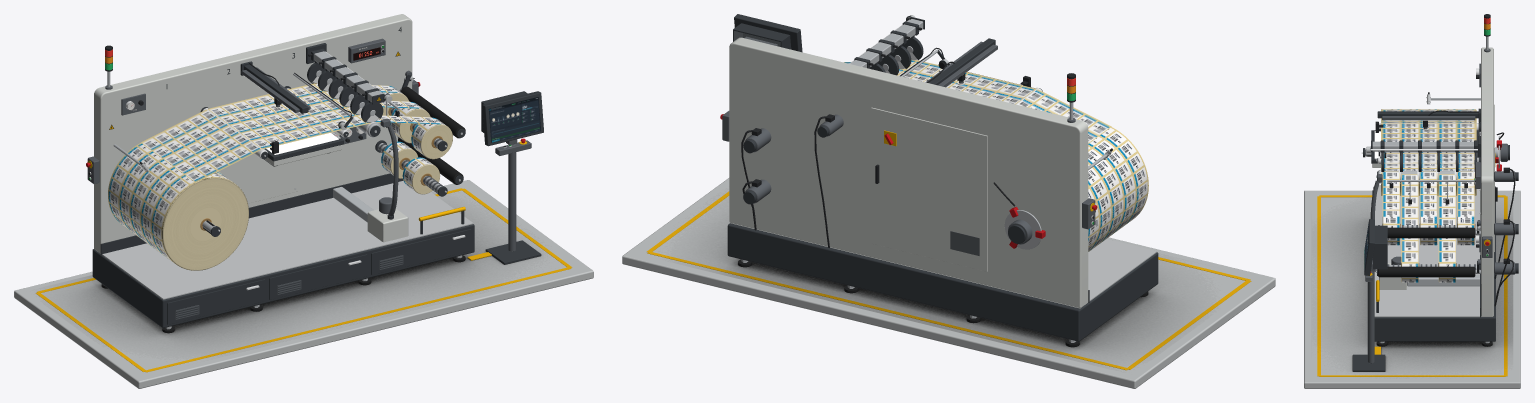
The model's file is slitter.glb.
3 views of the same model, side by side, from view 1: azimuth 30°, elevation 25°; view 2: azimuth 150°, elevation 25°; view 3: azimuth 270°, elevation 25° (orthographic). The views are drawn at different scales.
Parts seen in each view (by area): view 1: socle, mur_tole_gris_clair, bati_dessus, rotatif_1, bati_tole_anthracite, bande, mur_tole_anthracite, refente_tole_anthracite, pupitre_tole_anthracite, ecran_ihm, pupitre_graphite, table_tole_anthracite (+16 smaller); view 2: mur_tole_gris_clair, socle, bati_tole_anthracite, rotatif_1, bande, bati_dessus, pupitre_tole_anthracite, refente_tole_anthracite, refente_acier_usine, rembobinage_graphite, derouleur_acier_usine, table_tole_anthracite (+3 smaller); view 3: socle, bande, bati_dessus, mur_tole_gris_clair, bati_tole_anthracite, pupitre_tole_anthracite, rotatif_23, rotatif_22, rembobinage_graphite, refente_acier_usine, refente_tole_anthracite, pupitre_graphite (+15 smaller).
Boxes of the visible parts, x1=… form: socle: x1=14, y1=180, x2=593, y2=388; mur_tole_gris_clair: x1=94, y1=14, x2=412, y2=253; bati_dessus: x1=102, y1=180, x2=473, y2=299; rotatif_1: x1=108, y1=143, x2=248, y2=270; bati_tole_anthracite: x1=92, y1=224, x2=474, y2=327; bande: x1=141, y1=83, x2=440, y2=182; mur_tole_anthracite: x1=100, y1=27, x2=403, y2=255; refente_tole_anthracite: x1=306, y1=43, x2=384, y2=122; pupitre_tole_anthracite: x1=481, y1=91, x2=543, y2=264; ecran_ihm: x1=488, y1=97, x2=540, y2=142; pupitre_graphite: x1=495, y1=139, x2=531, y2=251; table_tole_anthracite: x1=240, y1=61, x2=343, y2=166; mur_tole_gris_clair: x1=729, y1=37, x2=1088, y2=308; socle: x1=622, y1=178, x2=1275, y2=388; bati_tole_anthracite: x1=727, y1=223, x2=1158, y2=341; rotatif_1: x1=1088, y1=127, x2=1148, y2=251; bande: x1=844, y1=60, x2=1111, y2=143; bati_dessus: x1=1088, y1=239, x2=1156, y2=301; pupitre_tole_anthracite: x1=733, y1=14, x2=802, y2=52; refente_tole_anthracite: x1=817, y1=17, x2=924, y2=137; refente_acier_usine: x1=850, y1=19, x2=923, y2=67; rembobinage_graphite: x1=722, y1=111, x2=771, y2=203; derouleur_acier_usine: x1=1004, y1=154, x2=1107, y2=249; table_tole_anthracite: x1=928, y1=38, x2=1034, y2=88; socle: x1=1304, y1=190, x2=1520, y2=388; bande: x1=1381, y1=110, x2=1476, y2=263; bati_dessus: x1=1374, y1=185, x2=1479, y2=317; mur_tole_gris_clair: x1=1480, y1=47, x2=1494, y2=316; bati_tole_anthracite: x1=1372, y1=186, x2=1495, y2=341; pupitre_tole_anthracite: x1=1352, y1=219, x2=1387, y2=371; rotatif_23: x1=1377, y1=266, x2=1475, y2=277; rotatif_22: x1=1387, y1=227, x2=1475, y2=238; rembobinage_graphite: x1=1378, y1=220, x2=1515, y2=274; refente_acier_usine: x1=1372, y1=141, x2=1473, y2=151; refente_tole_anthracite: x1=1371, y1=135, x2=1518, y2=180; pupitre_graphite: x1=1365, y1=260, x2=1375, y2=363.
Bounding box in the file's own units: 4.2 × 2.17 × 2.
Materials: 34 (9 with a texture image).
